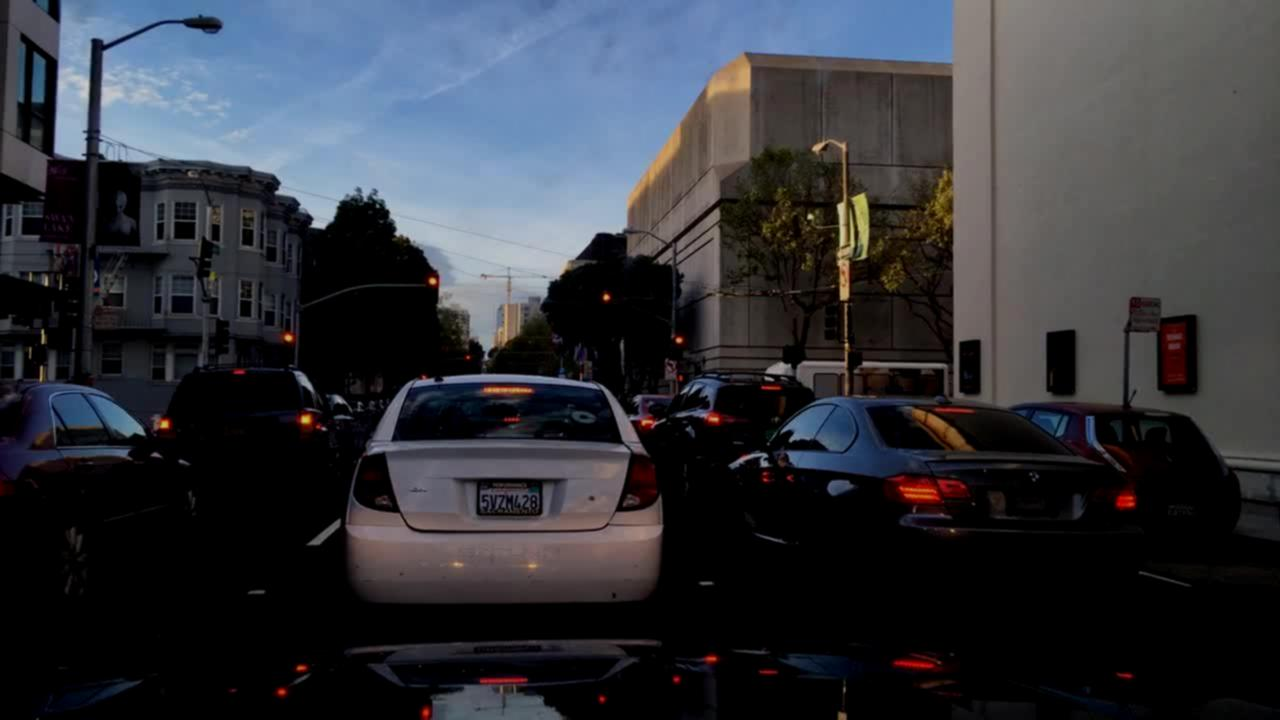bmw: (1022, 469, 1046, 489)
